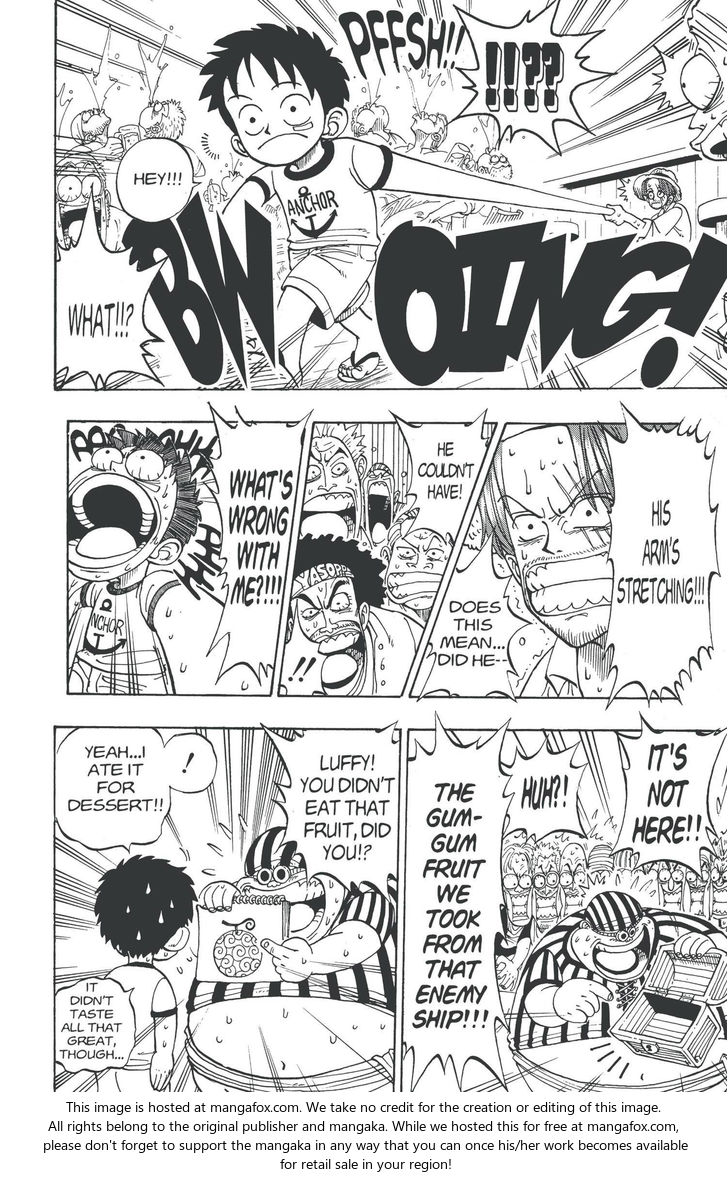bubble: (402, 711, 514, 1092), (601, 402, 720, 709), (204, 403, 313, 683), (261, 720, 401, 902), (453, 0, 615, 155), (56, 185, 167, 390), (417, 527, 533, 703), (609, 713, 727, 879), (54, 726, 171, 854), (390, 409, 489, 545), (500, 735, 588, 844), (54, 977, 136, 1073), (116, 138, 201, 223), (164, 734, 218, 793)
